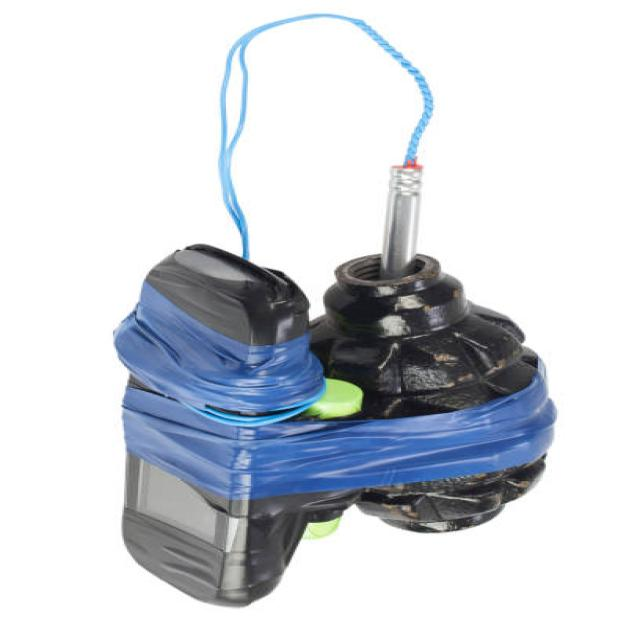grenade: (315, 253, 556, 539)
